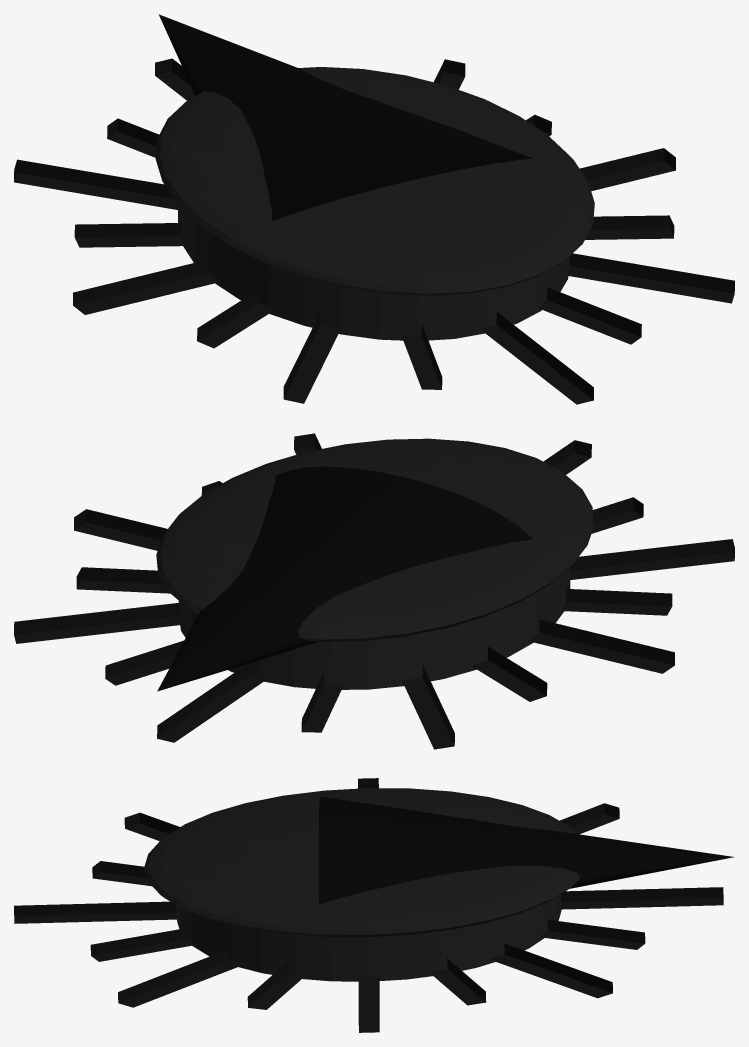
File: Cooker Unit (Oven Hob Buttons 4).fbx
The picture shows the model from 3 angles, top to bottom: view 1: azimuth 30°, elevation 25°; view 2: azimuth 150°, elevation 25°; view 3: azimuth 270°, elevation 25°; orthographic projection. The views are drawn at different scales.
Parts seen in each view (by area): view 1: Cooker Buttons.006; view 2: Cooker Buttons.006; view 3: Cooker Buttons.006.
Boxes of the visible parts, x1=… form: Cooker Buttons.006: x1=14, y1=14, x2=734, y2=404; Cooker Buttons.006: x1=14, y1=433, x2=734, y2=749; Cooker Buttons.006: x1=14, y1=778, x2=734, y2=1032.
Bounding box in the file's own units: 0.0627 × 0.0113 × 0.0785.
Materials: 11 (1 with a texture image).
